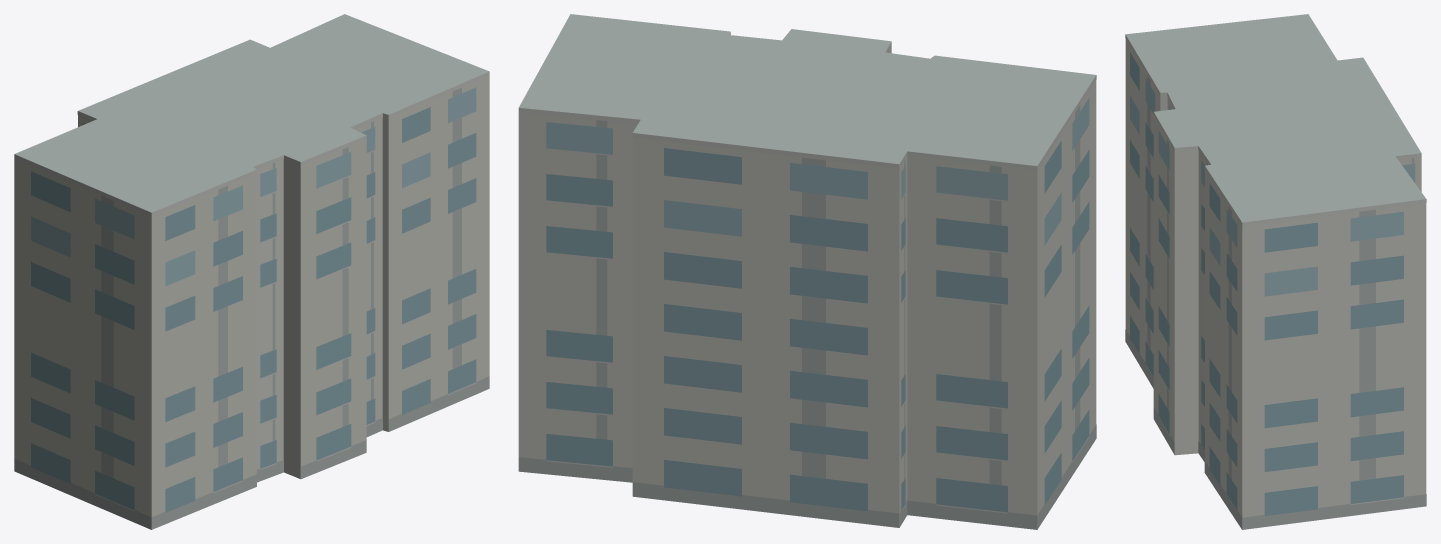
Rendered from survey-upis-32980715.glb.
3 renders of one model, left to right at view 1: azimuth 30°, elevation 25°; view 2: azimuth 150°, elevation 25°; view 3: azimuth 270°, elevation 25°, orthographic. The views are drawn at different scales.
Visible parts, largest first — view 1: survey-upis-32980715.tmp; view 2: survey-upis-32980715.tmp; view 3: survey-upis-32980715.tmp.
Boxes of the visible parts, x1,y1,x2,y2 form: survey-upis-32980715.tmp: (14,14,489,529); survey-upis-32980715.tmp: (518,14,1096,529); survey-upis-32980715.tmp: (1125,14,1426,529).
Size of the model in its own units: 27.09 by 18.6 by 16.52.
